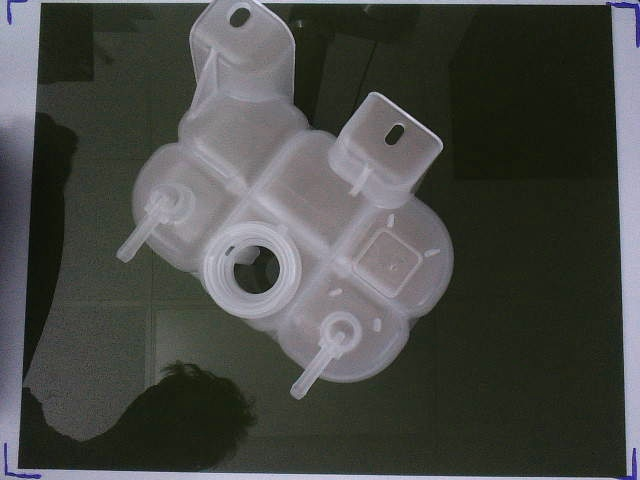reservoir_transparent_Top: (116, 1, 454, 400)
